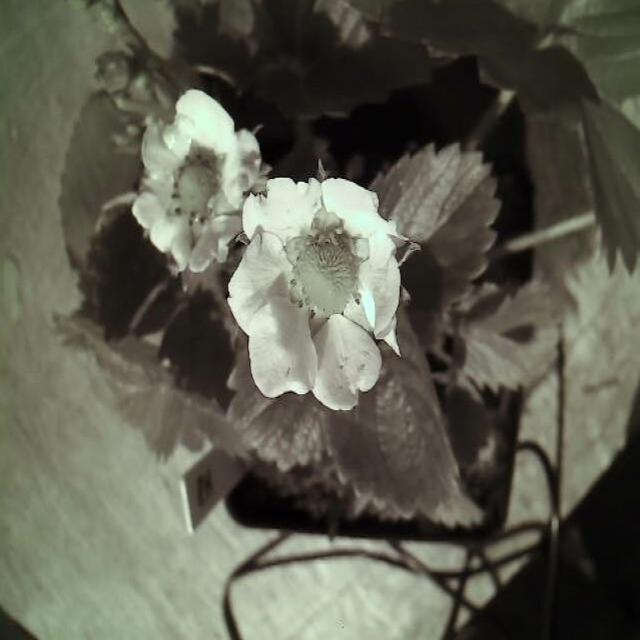flower: (228, 174, 408, 418), (128, 82, 272, 280)
